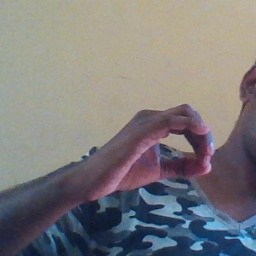O: (97, 102, 216, 189)
